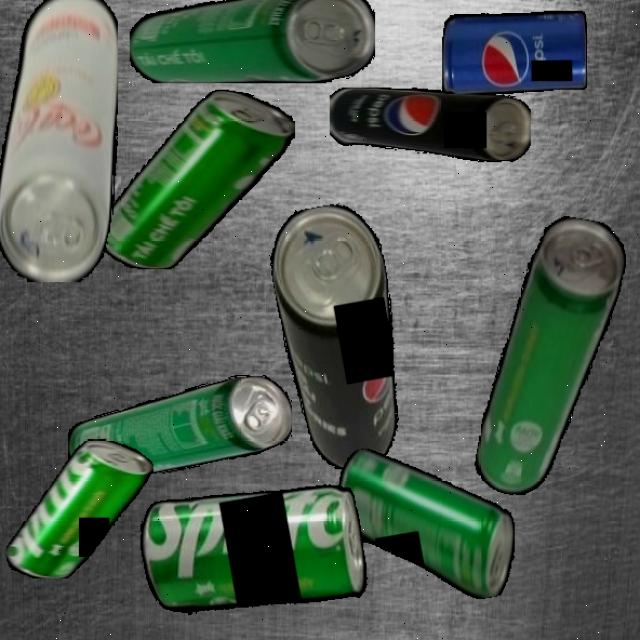debris: (472, 209, 632, 507), (263, 198, 418, 478), (133, 467, 378, 640), (332, 426, 525, 619), (96, 89, 295, 269), (0, 0, 118, 282), (67, 375, 292, 481), (5, 438, 154, 578), (129, 0, 375, 83), (328, 88, 530, 162), (441, 10, 587, 94)
